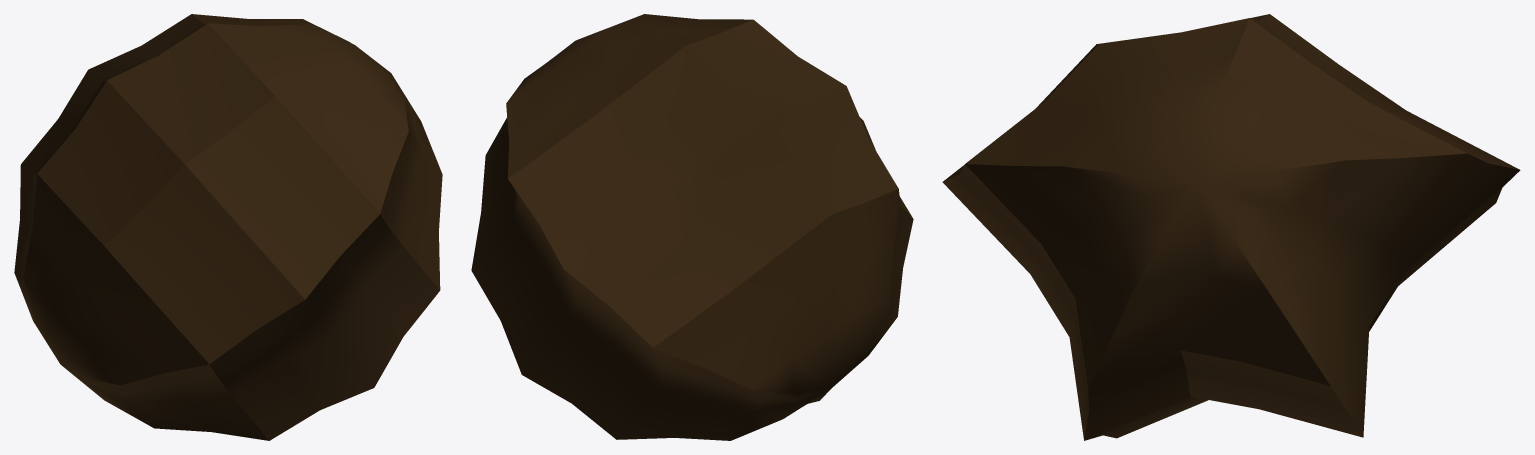
The model's file is expRockSingle.fbx.
The picture shows the model from 3 angles, left to right: view 1: azimuth 30°, elevation 25°; view 2: azimuth 150°, elevation 25°; view 3: azimuth 270°, elevation 25°; orthographic projection. The views are drawn at different scales.
Parts seen in each view (by area): view 1: rock15; view 2: rock15; view 3: rock15.
Boxes of the visible parts, x1,y1,x2,y2 form: rock15: [14, 14, 442, 440]; rock15: [471, 14, 913, 440]; rock15: [942, 14, 1520, 440].
Bounding box in the file's own units: 93.42 × 91.13 × 114.
